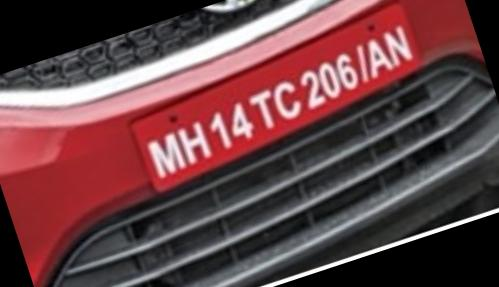plate: (119, 6, 444, 189)
